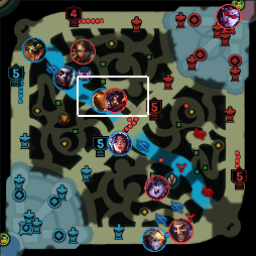bard: (90, 89, 115, 113)
draven: (168, 218, 193, 243)
ekko: (53, 65, 78, 89)
ezreal: (142, 226, 167, 251)
irelia: (107, 130, 131, 156)
lulu: (142, 174, 170, 200)
nidalee: (69, 39, 95, 64)
renekton: (22, 36, 46, 62)
vayne: (216, 5, 241, 29)
viktor: (101, 87, 127, 112)
